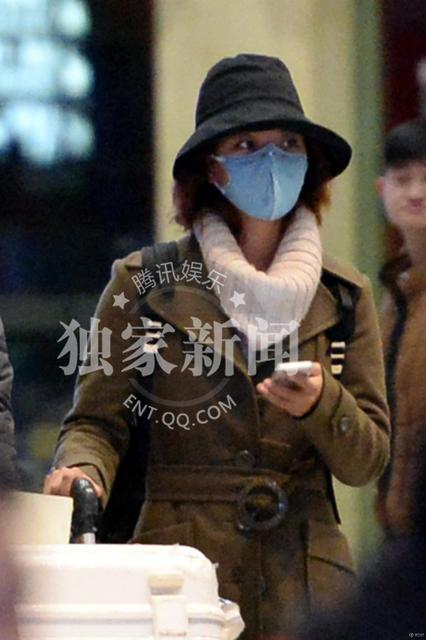NONE: (387, 165, 426, 230)
OK: (217, 116, 320, 219)
